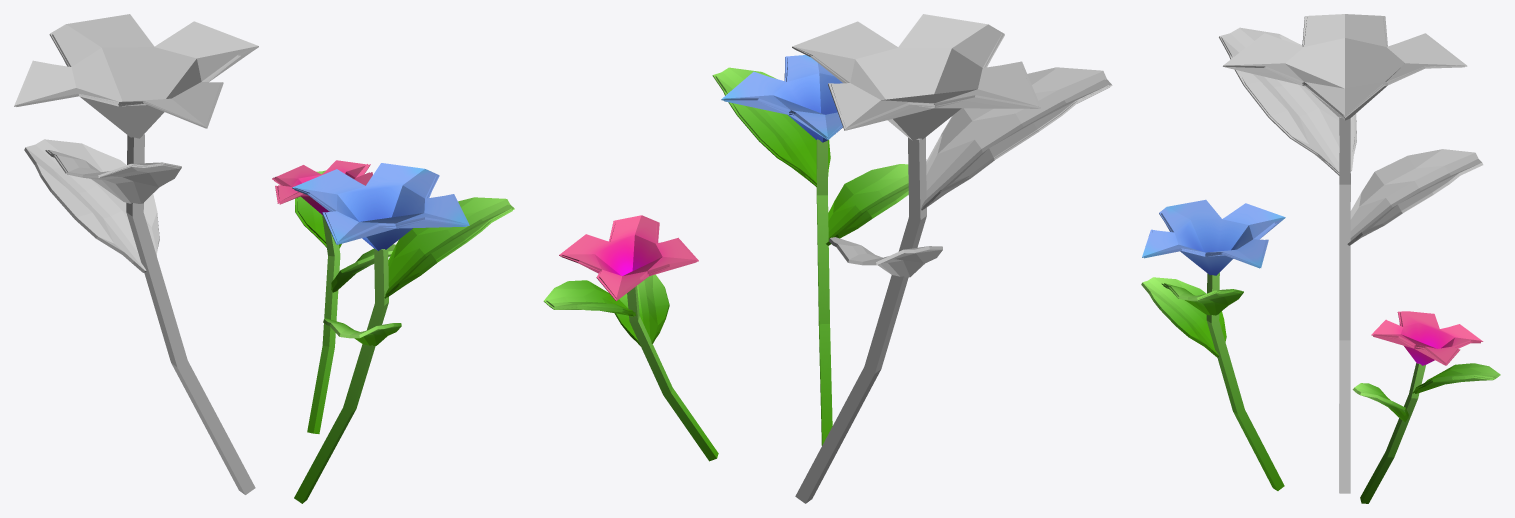
File: flowers.fbx
3 views of the same model, side by side, from view 1: azimuth 30°, elevation 25°; view 2: azimuth 150°, elevation 25°; view 3: azimuth 270°, elevation 25° (orthographic). The views are drawn at different scales.
Parts seen in each view (by area): view 1: Plane.001; view 2: Plane.001; view 3: Plane.001.
Part boxes in pixels (x1,y1,x2,y2): Plane.001: (14, 14, 514, 503); Plane.001: (543, 14, 1112, 503); Plane.001: (1141, 14, 1500, 503).
Size of the model in its own units: 145 by 151 by 123.
